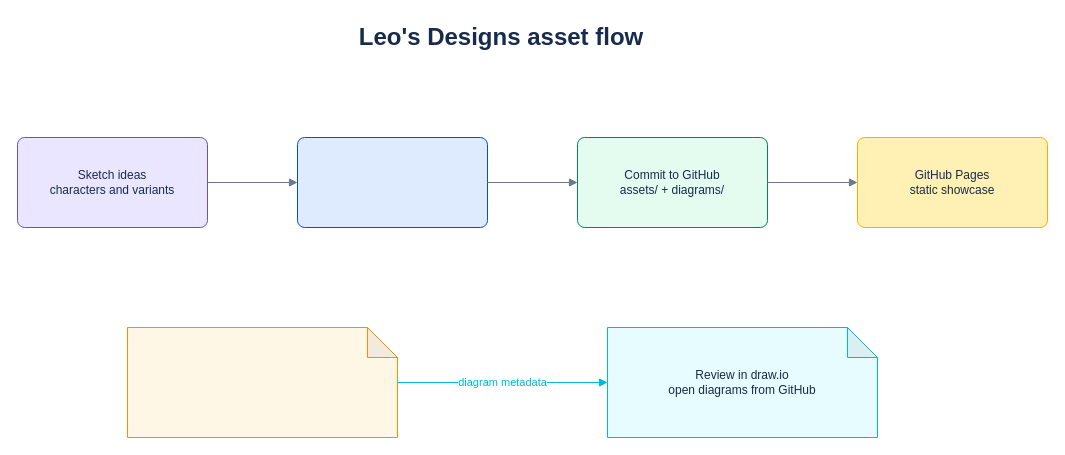
This 1065x455 diagram has some shape labels left out. Here are the shapes that lost their labels. From the top down, the box of each, then its label:
(296, 136, 488, 228): Render assets bot + punk versions
(126, 326, 398, 438): Catalog families chicken, crab, lizard, sea monster
